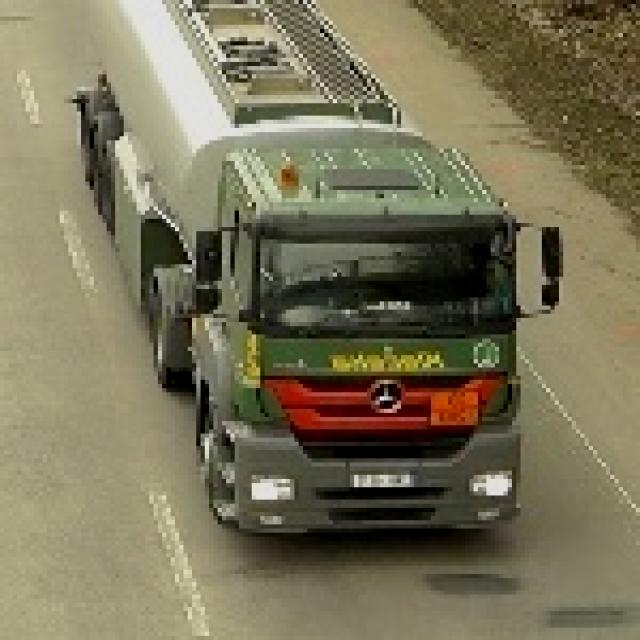truck: (73, 1, 560, 542)
